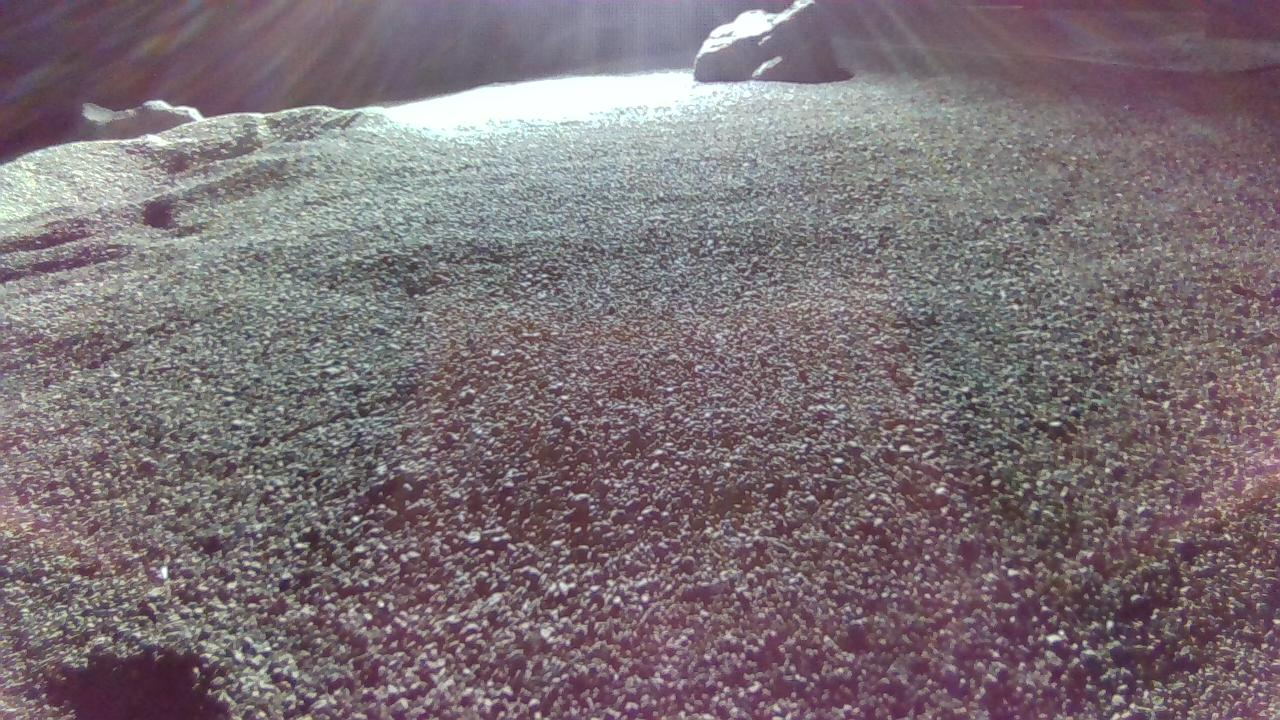rock: (695, 0, 840, 82), (78, 98, 202, 139)
